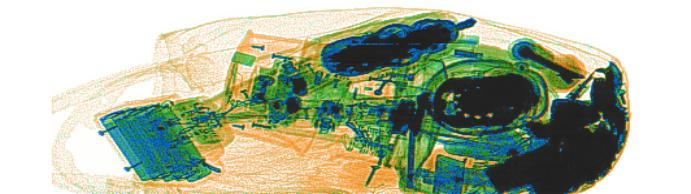battery: (98, 101, 212, 183), (442, 136, 525, 162)
